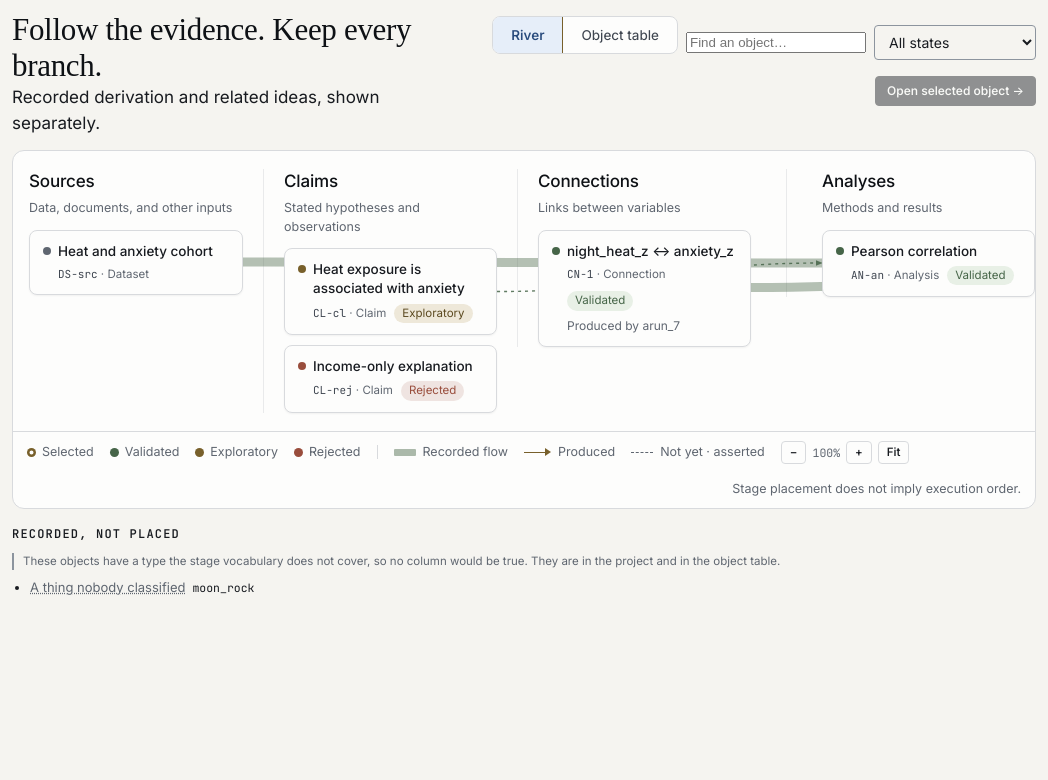
Test: the research river › separates recorded derivation from an asserted relationship
Expected: the text "Pearson correlation" is shown, [851, 242, 977, 260]
Click the button "Pearson correlation AN-an · Analysis Validated": (928, 263) [822, 230, 1035, 297]
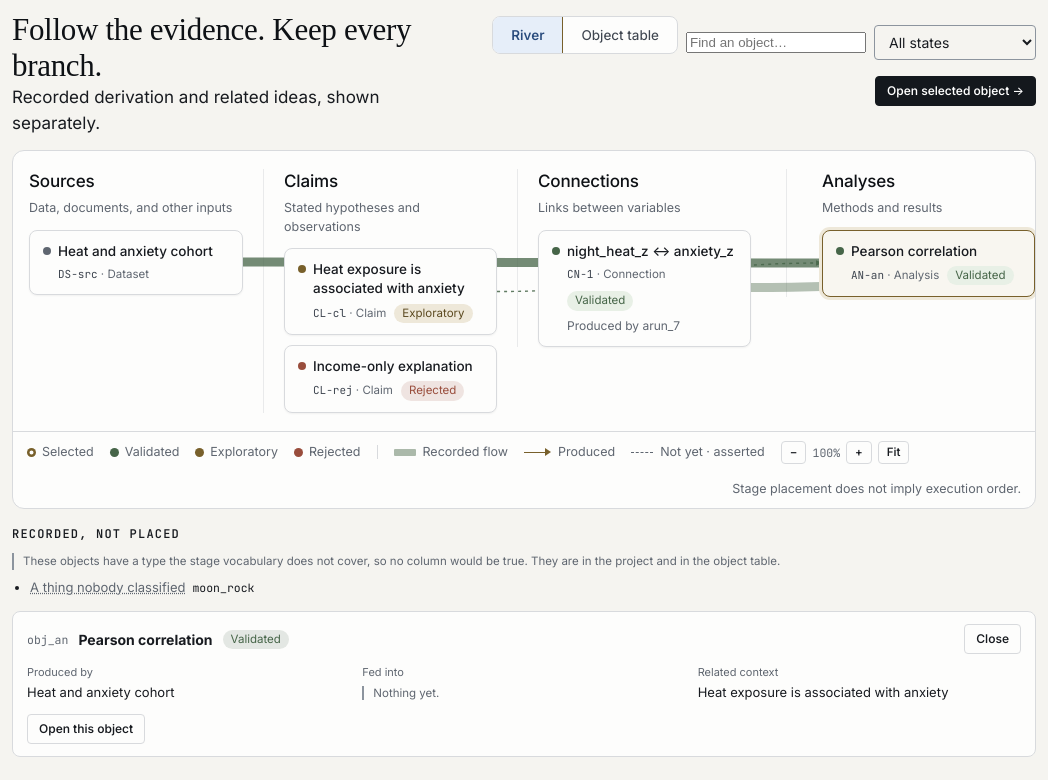
Expected: the text "Heat exposure is associated" is not shown
Expected: the text "Heat and anxiety cohort" next to "Nothing yet." is shown, [27, 684, 174, 700]
Expected: the text "Heat exposure is associated with anxiety" below "Related context" is shown, [698, 684, 949, 700]
